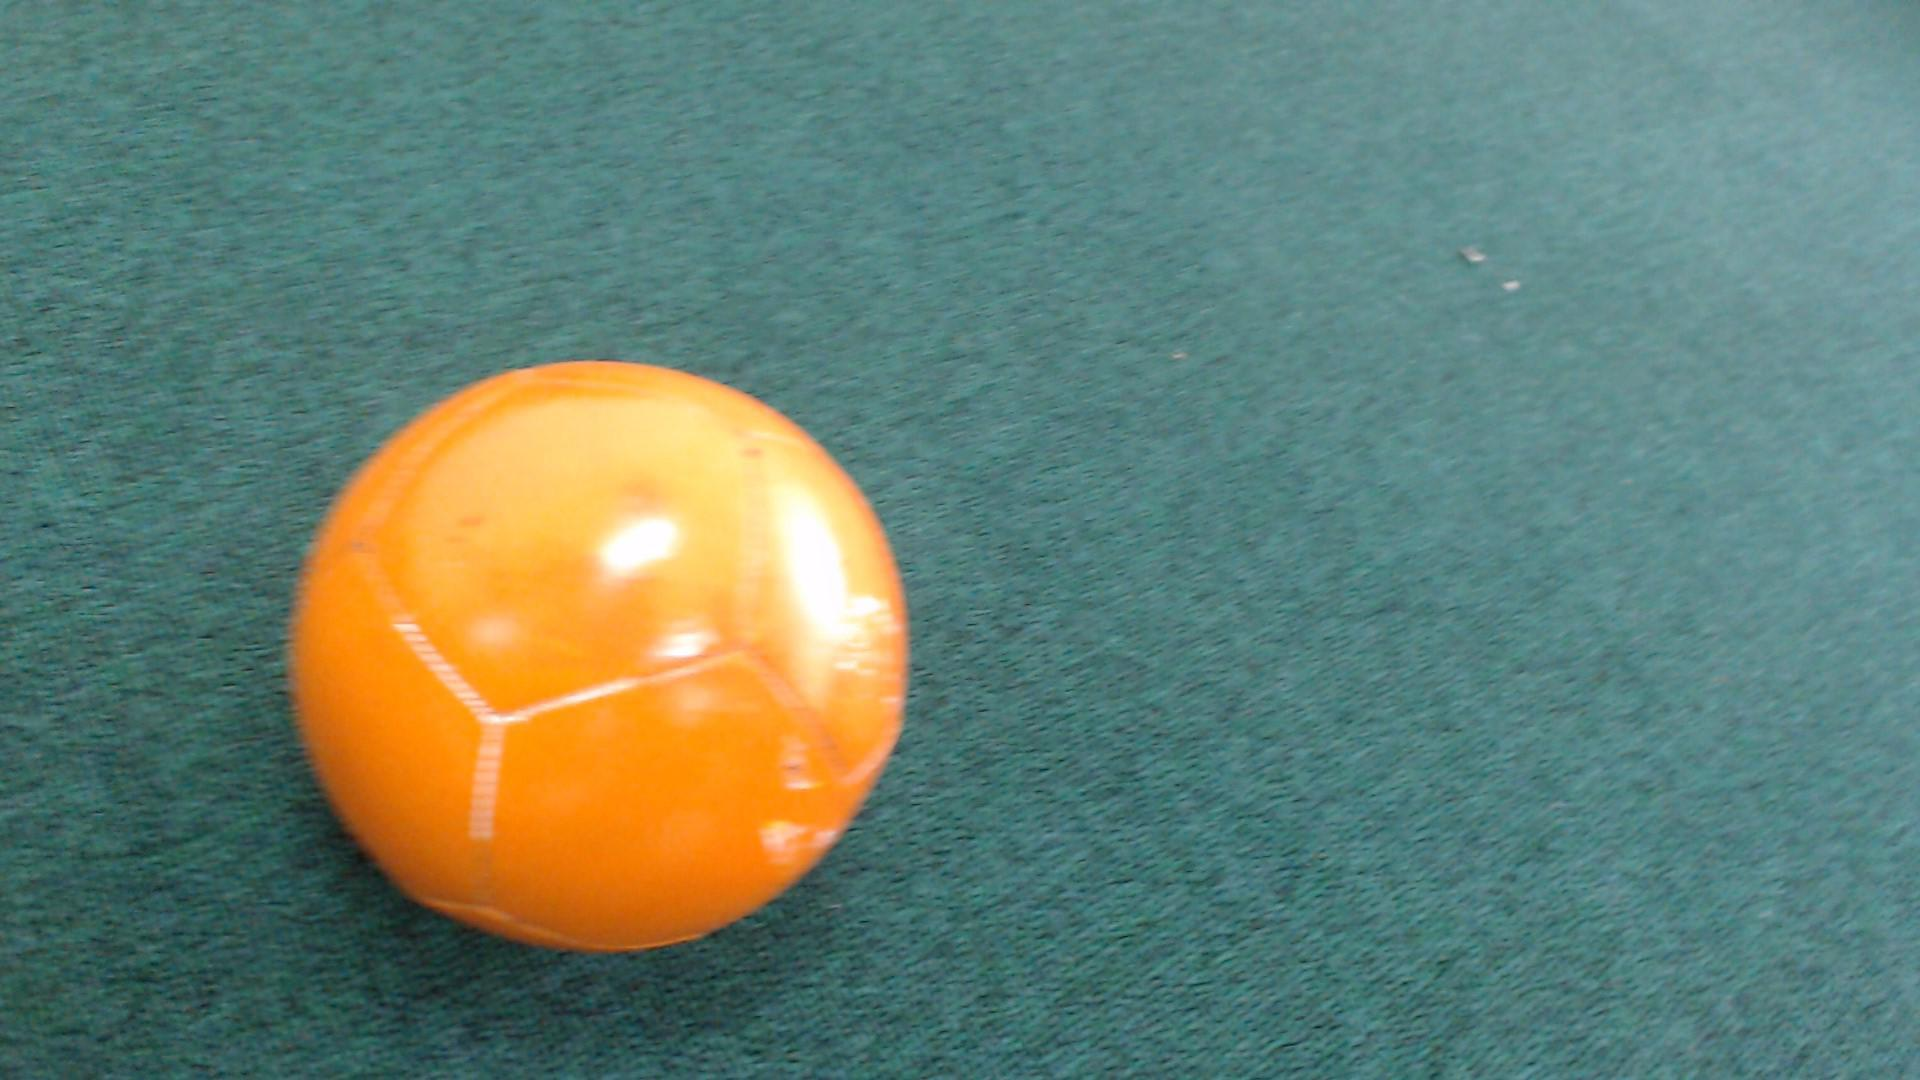bola: (243, 335, 965, 972)
